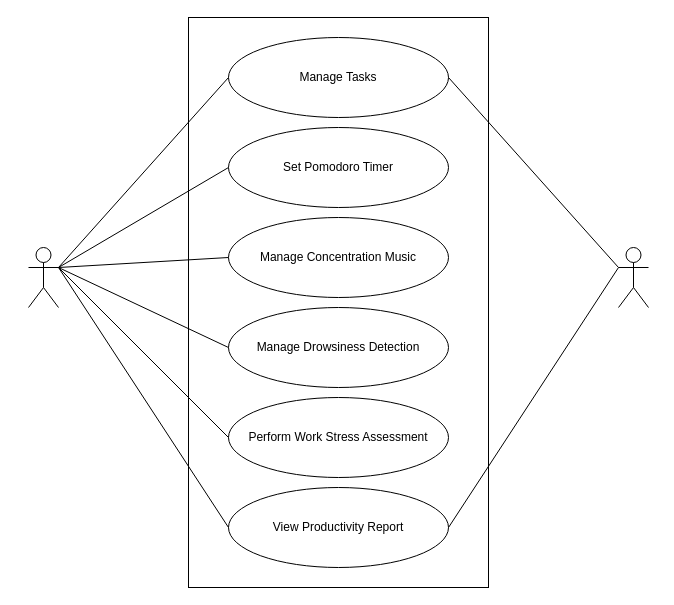
The diagram is 674 pixels wide and 605 high, and some of its shapes have lost their labels. The centre of each missing label's shape, as x and y in pixels:
"Employee" belongs at (x=43, y=277).
"Manager" belongs at (x=633, y=277).
